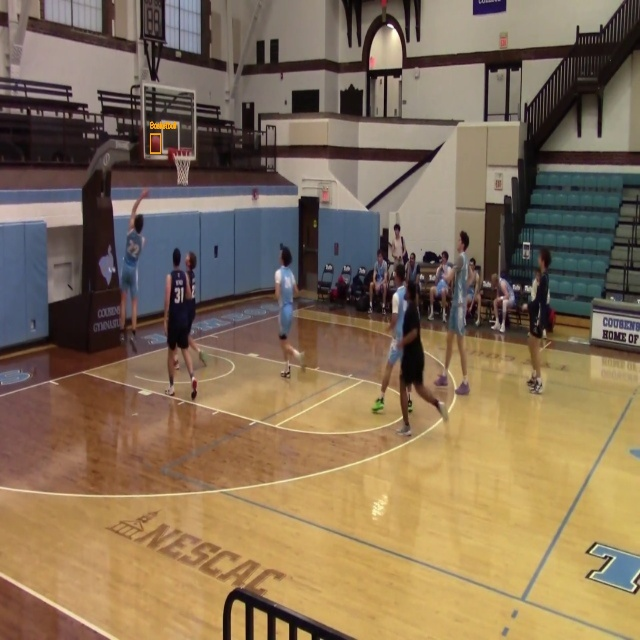Basketball: (150, 134, 161, 153)
